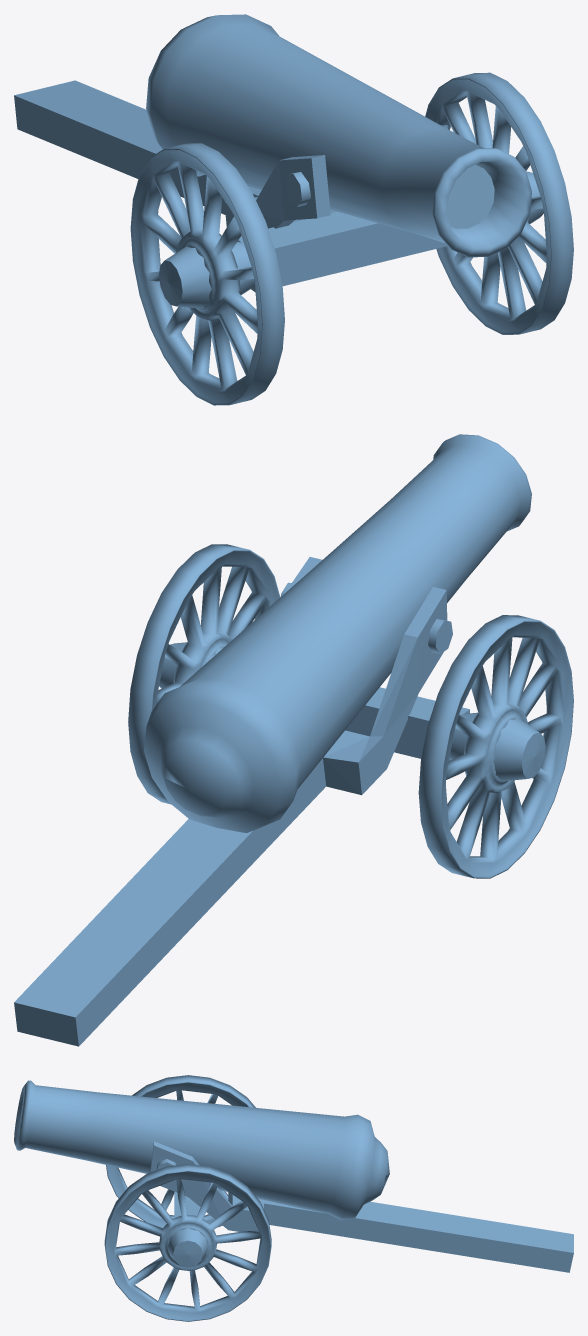
File: Cannon_low.fbx
The picture shows the model from 3 angles, top to bottom: view 1: azimuth 30°, elevation 25°; view 2: azimuth 150°, elevation 25°; view 3: azimuth 270°, elevation 25°; orthographic projection. The views are drawn at different scales.
Visible parts, largest first — view 1: Cannon_low; view 2: Cannon_low; view 3: Cannon_low.
Part boxes in pixels (<box>): Cannon_low: <box>14,14,573,405</box>; Cannon_low: <box>14,434,573,1046</box>; Cannon_low: <box>14,1075,573,1321</box>.
Size of the model in its own units: 84.34 by 66.43 by 177.
